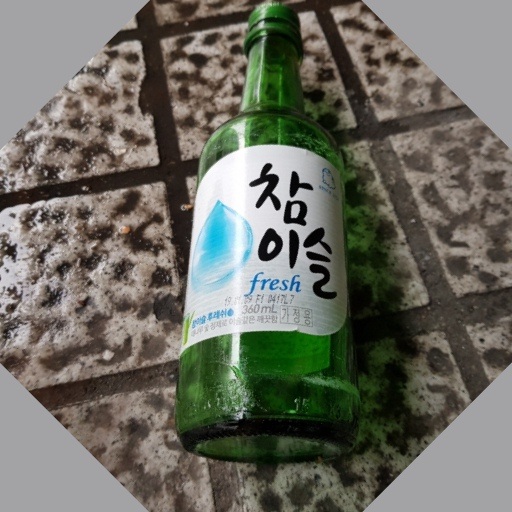Glass_0: (173, 1, 359, 470)
